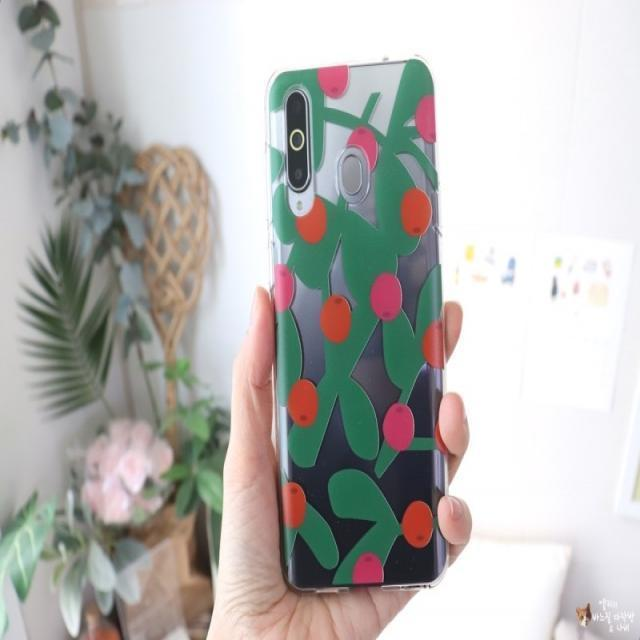phone: (262, 52, 449, 599)
